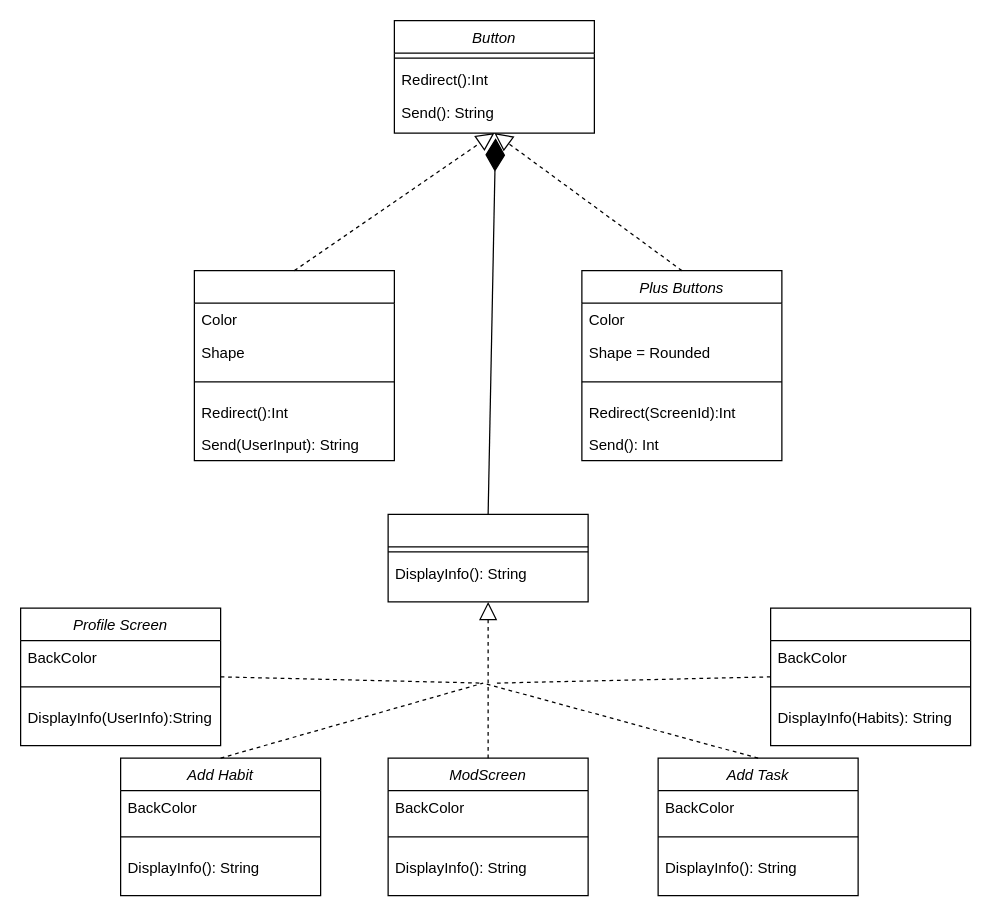
The diagram is 991 pixels wide and 916 high, and some of its shapes have lost their labels. Each missing label, with the box of its shape:
Data Button: (193, 269, 394, 461)
Main Screen: (769, 607, 971, 746)
Screen: (387, 513, 588, 602)
